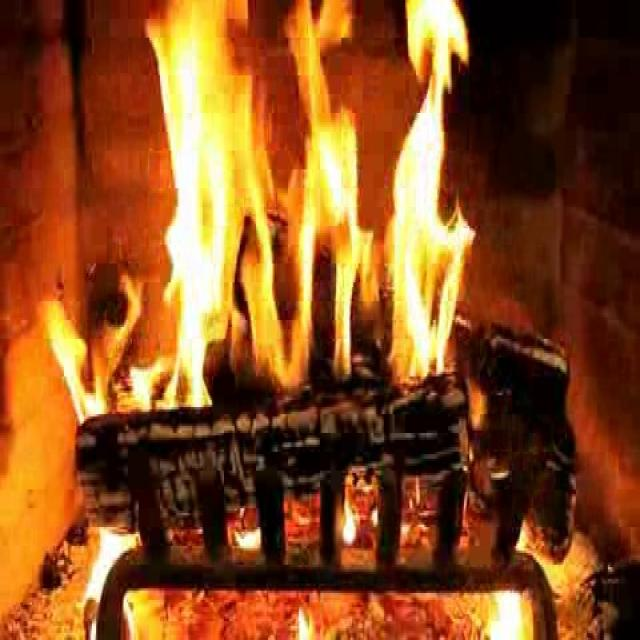fire: (138, 0, 472, 419)
